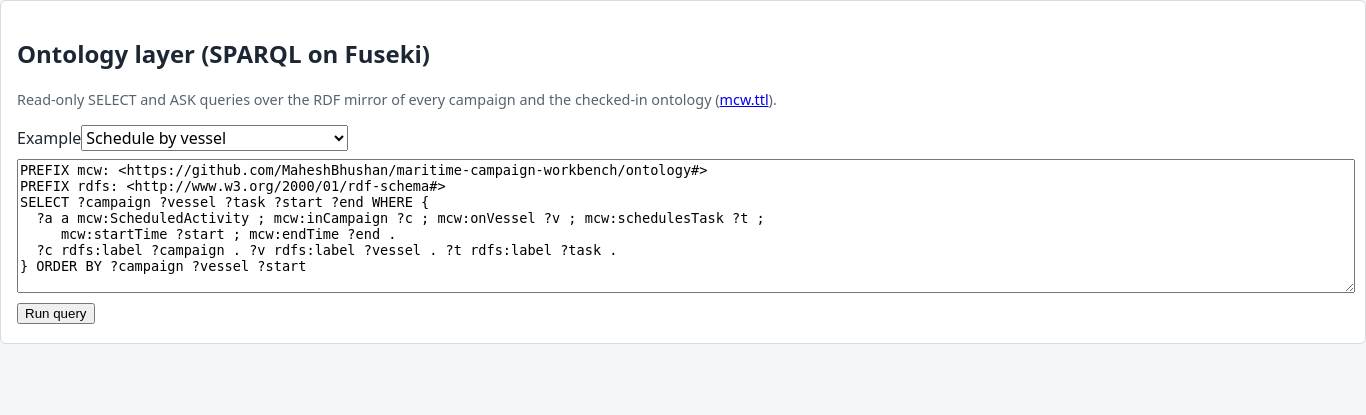
Test: SparqlConsole › shows server-side SPARQL errors
Click the button "Run query" at [56, 313], box [17, 303, 94, 324]
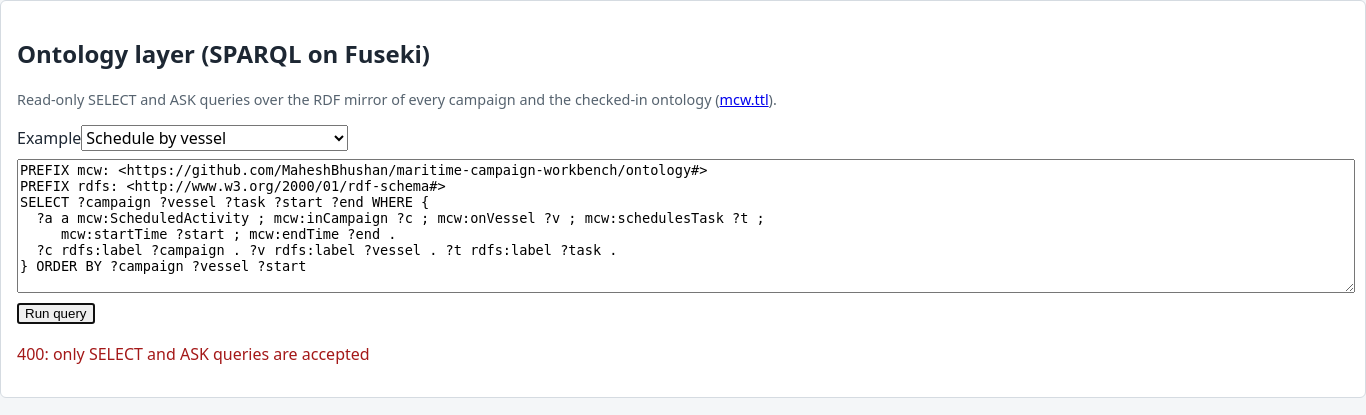
expect the message shows "only SELECT and ASK": met, box [17, 343, 370, 365]
